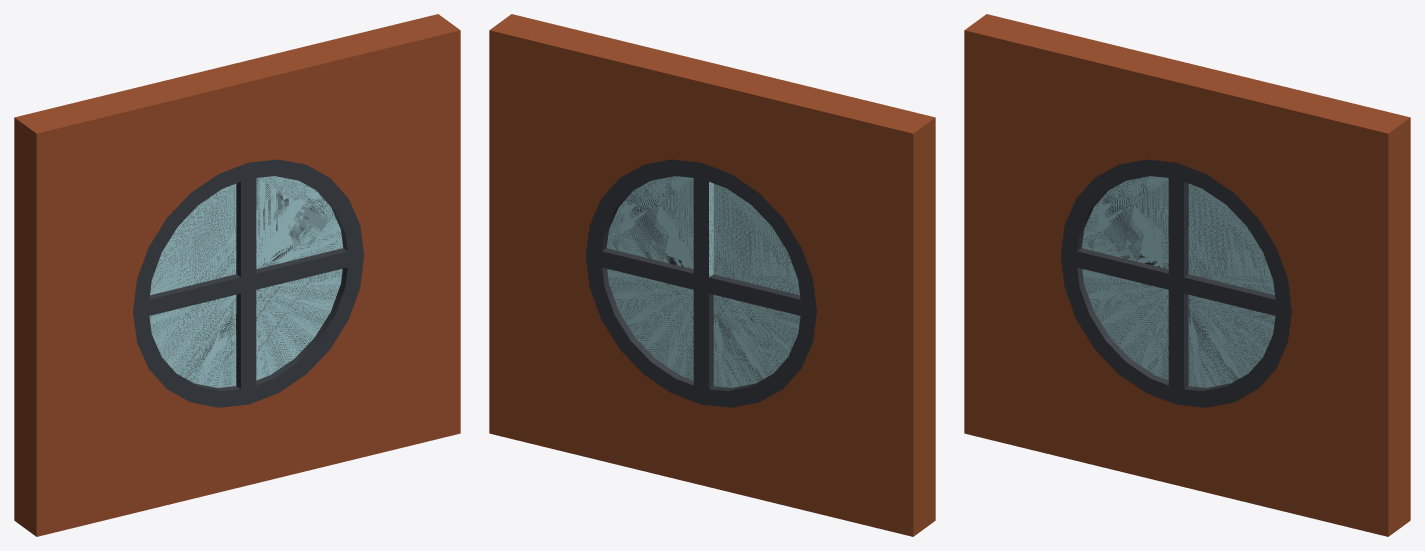
The model's file is wall_window_round_2.fbx.
3 views of the same model, side by side, from view 1: azimuth 30°, elevation 25°; view 2: azimuth 150°, elevation 25°; view 3: azimuth 330°, elevation 25° (orthographic).
Visible parts, largest first — view 1: Mesh1_Component_2_1 Model, Mesh2_Component_4_1 Model; view 2: Mesh1_Component_2_1 Model, Mesh2_Component_4_1 Model; view 3: Mesh1_Component_2_1 Model, Mesh2_Component_4_1 Model.
Boxes of the visible parts, x1,y1,x2,y2 form: Mesh1_Component_2_1 Model: (14,14,460,536); Mesh2_Component_4_1 Model: (133,159,364,407); Mesh1_Component_2_1 Model: (489,14,935,536); Mesh2_Component_4_1 Model: (585,159,816,407); Mesh1_Component_2_1 Model: (964,14,1410,536); Mesh2_Component_4_1 Model: (1060,159,1291,407).
Size of the model in its own units: 1.1 by 1 by 0.1.
